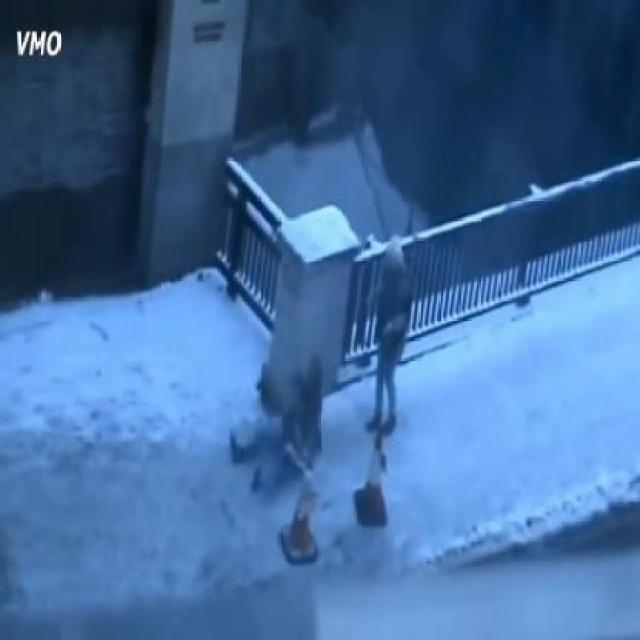fall: (232, 360, 322, 495)
